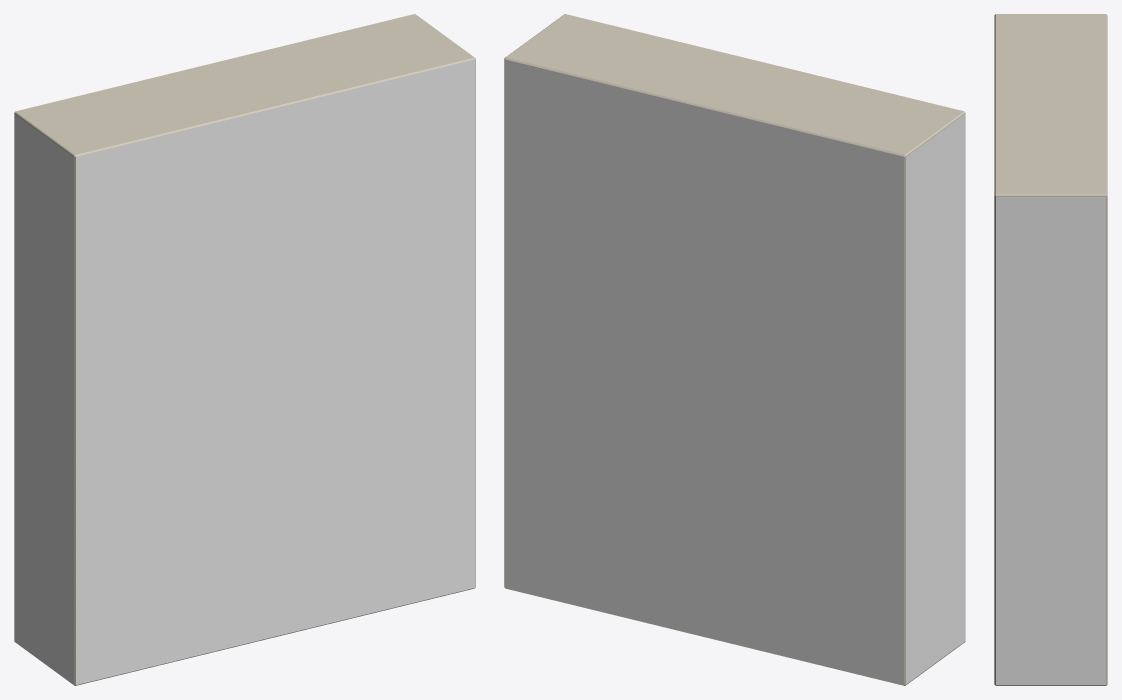
File: big_box.glb
The picture shows the model from 3 angles, left to right: view 1: azimuth 30°, elevation 25°; view 2: azimuth 150°, elevation 25°; view 3: azimuth 270°, elevation 25°; orthographic projection. The views are drawn at different scales.
Parts seen in each view (by area): view 1: box; view 2: box; view 3: box.
Boxes of the visible parts, <box> form: box: <box>14,14,475,685</box>; box: <box>504,14,965,685</box>; box: <box>994,14,1107,685</box>.
Bounding box in the file's own units: 0.7917 × 1 × 0.2083.
